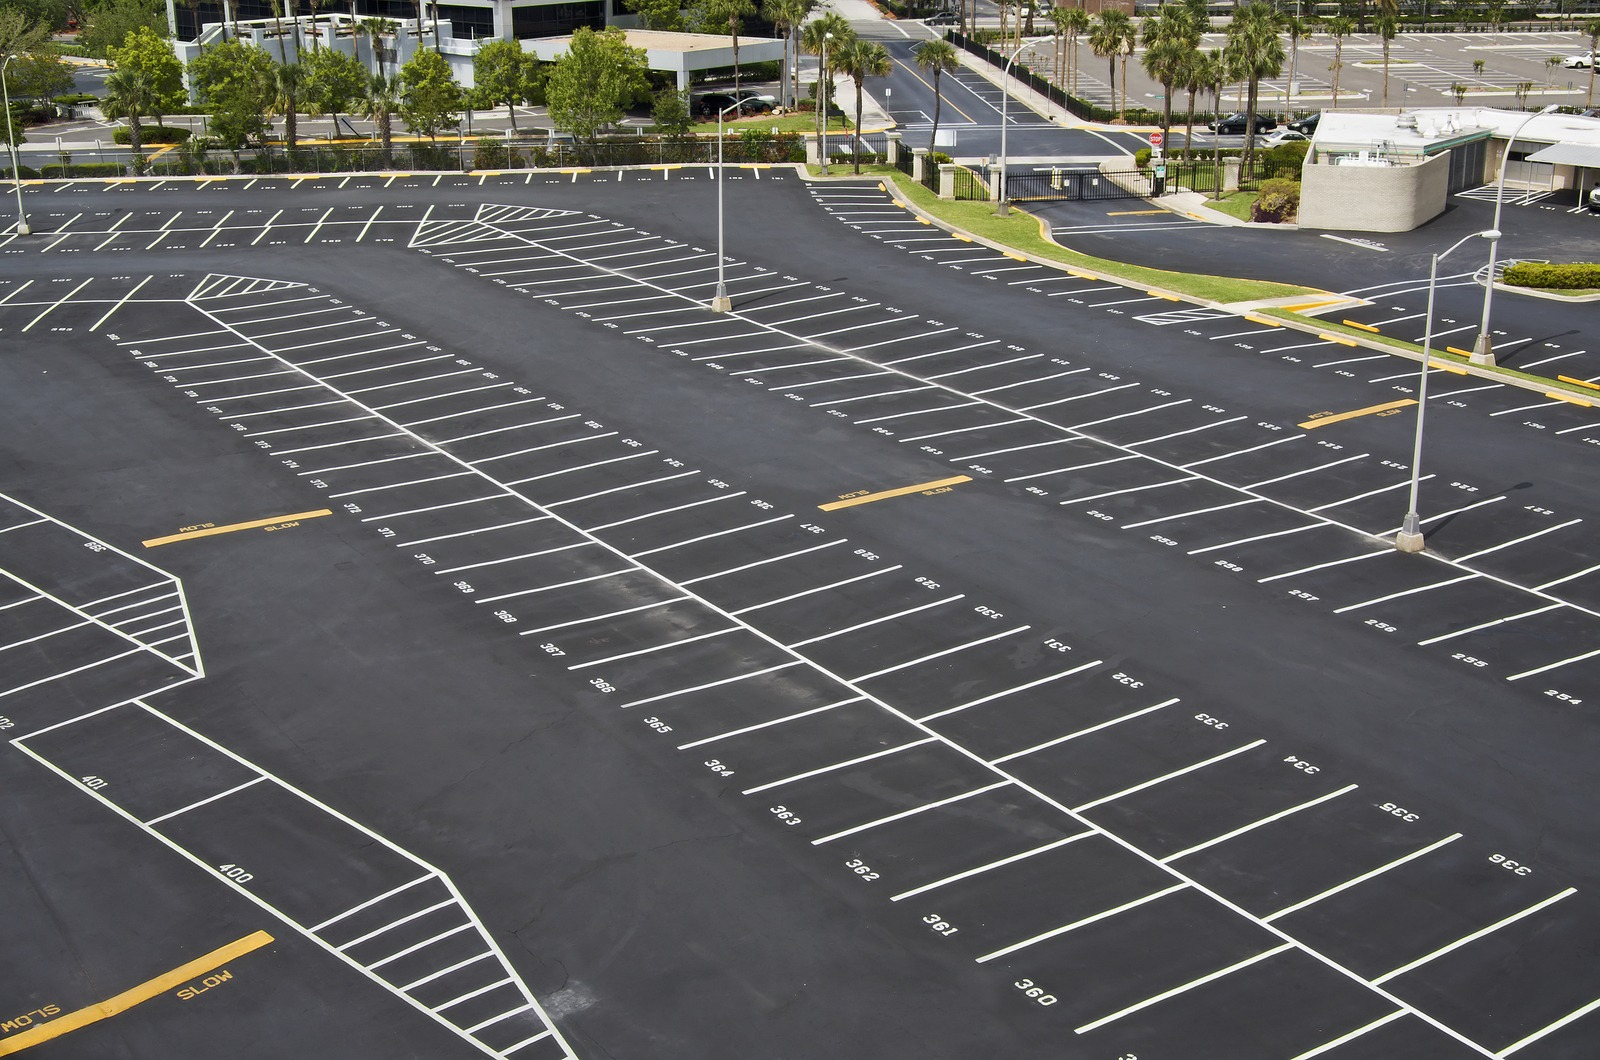Bos: (179, 786, 441, 967), (1269, 839, 1574, 975), (1164, 794, 1443, 942), (37, 698, 251, 884), (1028, 881, 1264, 1030), (915, 838, 1157, 967), (848, 781, 1069, 901), (948, 657, 1168, 777), (997, 707, 1227, 816), (769, 736, 995, 844), (721, 689, 926, 807), (681, 647, 862, 761)
